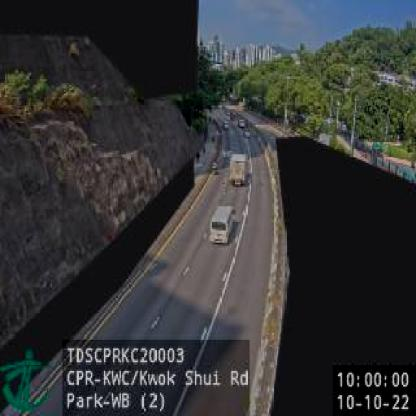Car: (209, 205, 235, 246)
Truck: (227, 152, 249, 188)
